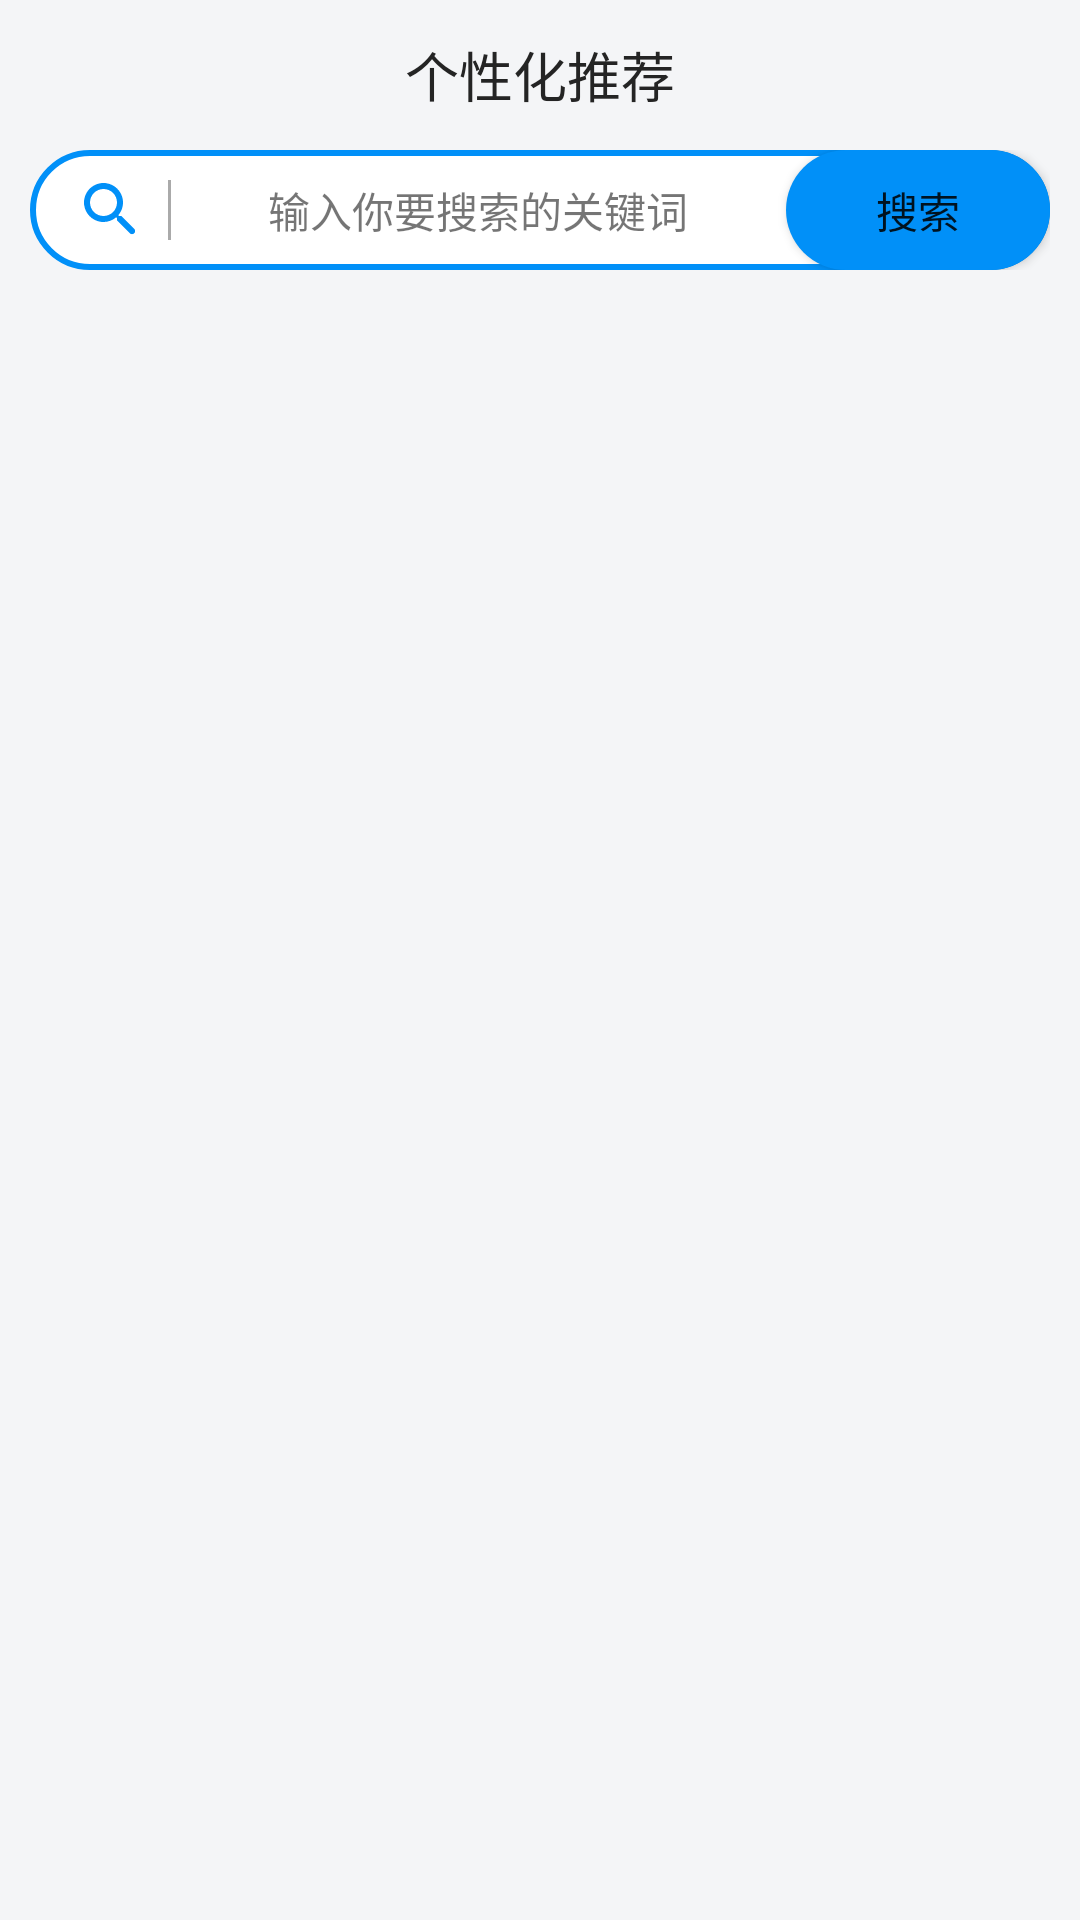

Named icons in this screenshot (1080*1920) and their centers, (x=x, y=y):
search: (x=111, y=210)
